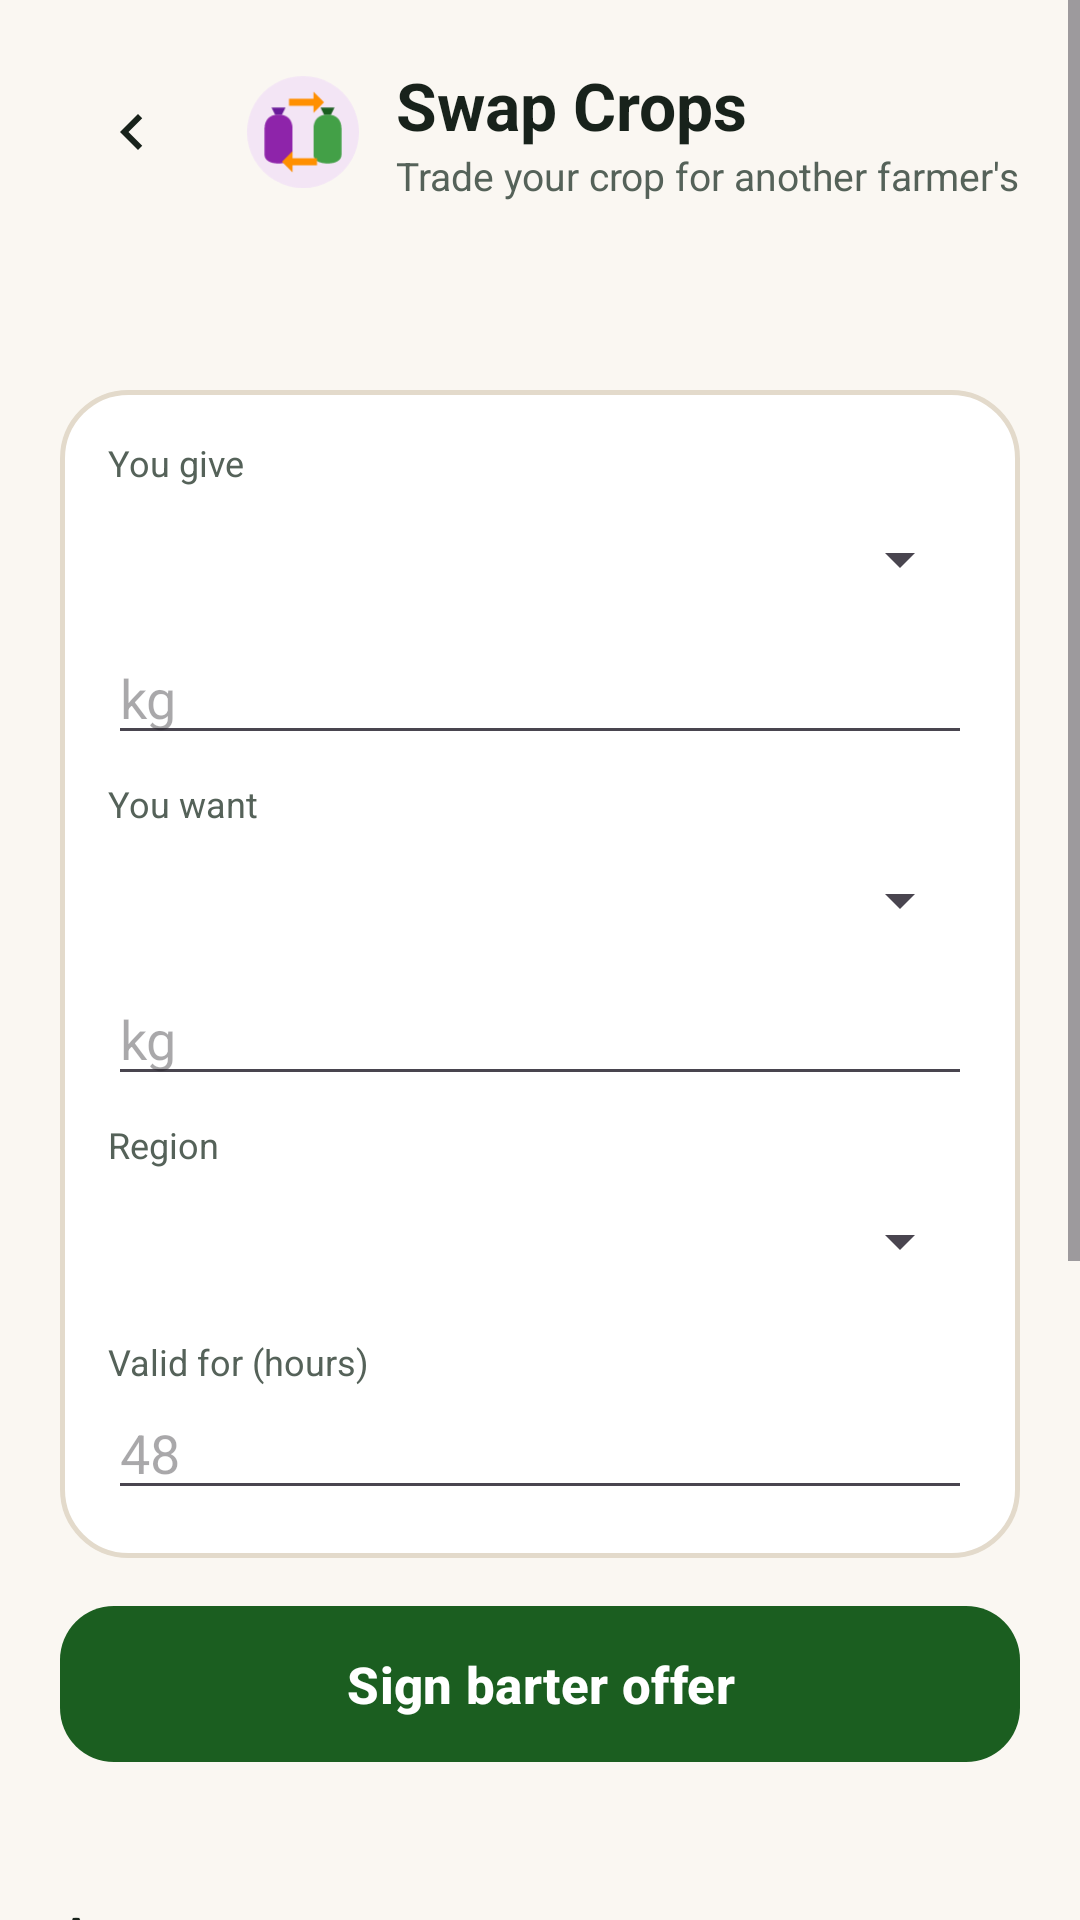

Screen size 1080 x 1920. Icon name, then its box in pixels as bbox(x1, y1, x2, y2):
Back: bbox(120, 114, 142, 150)
